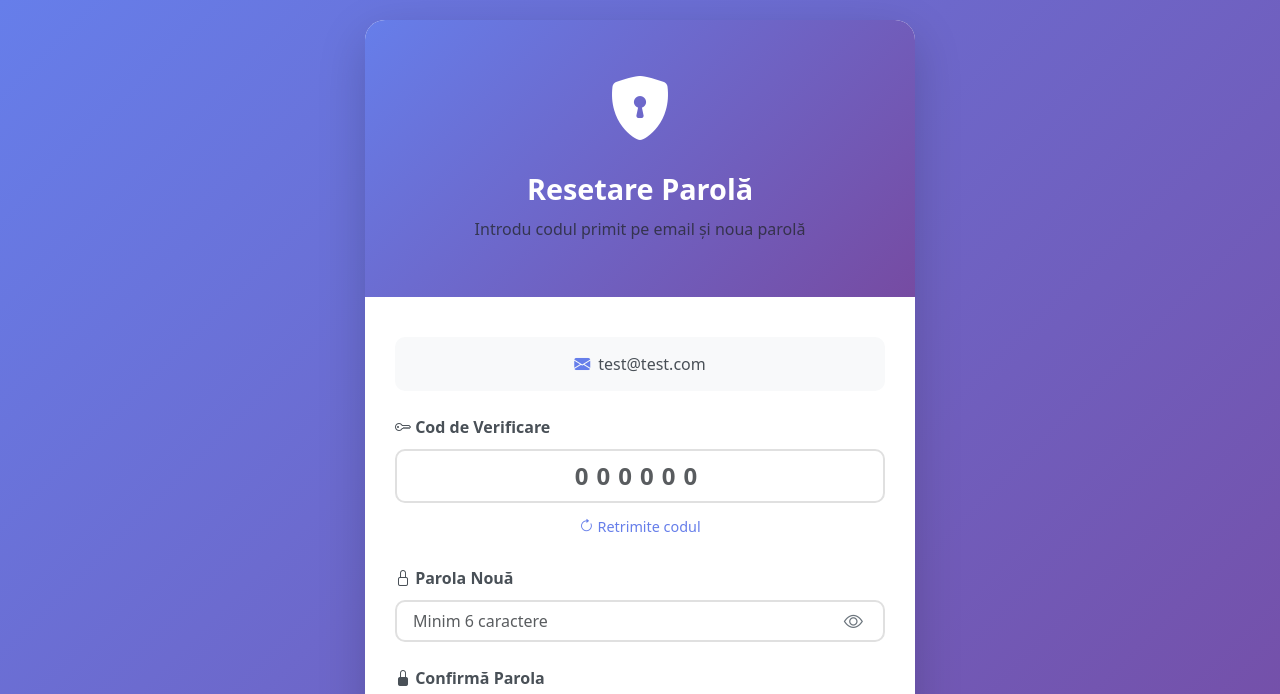
Test case: Password Reset Tests › 55. Should validate verification code format
Type "123" into the field named "code" at (640, 476), box [395,449,885,503]
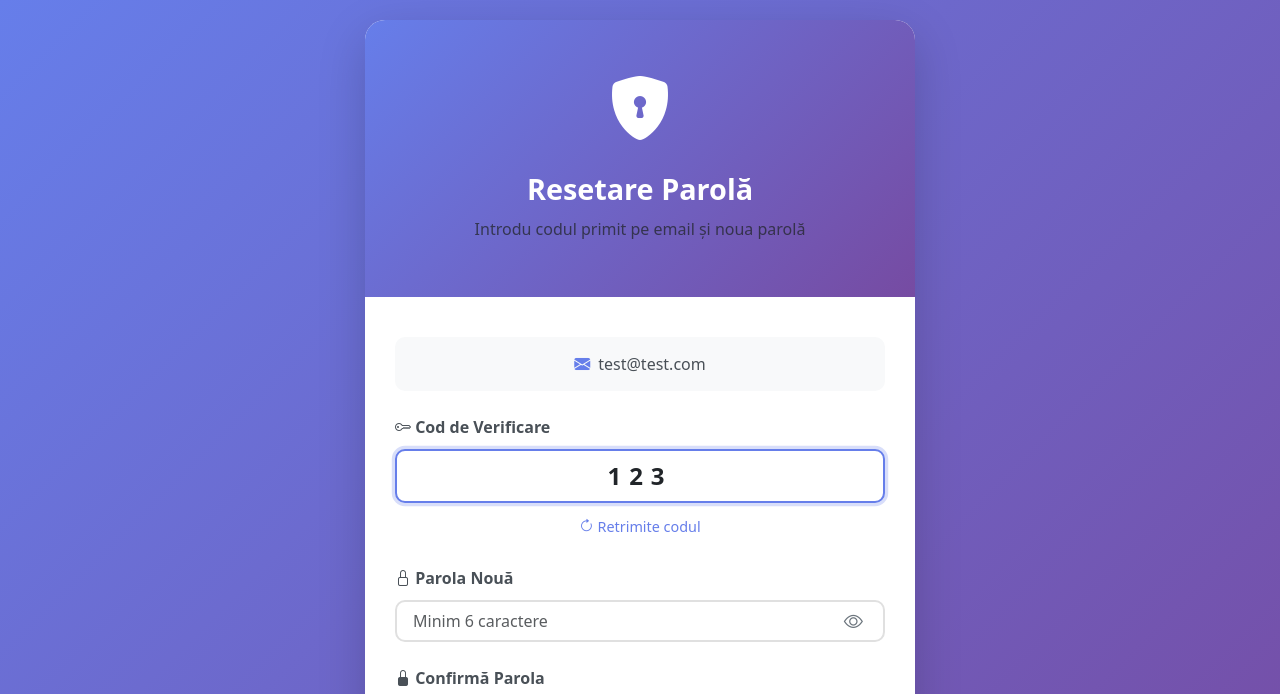
Leave the field named "code", box [395,449,885,503]
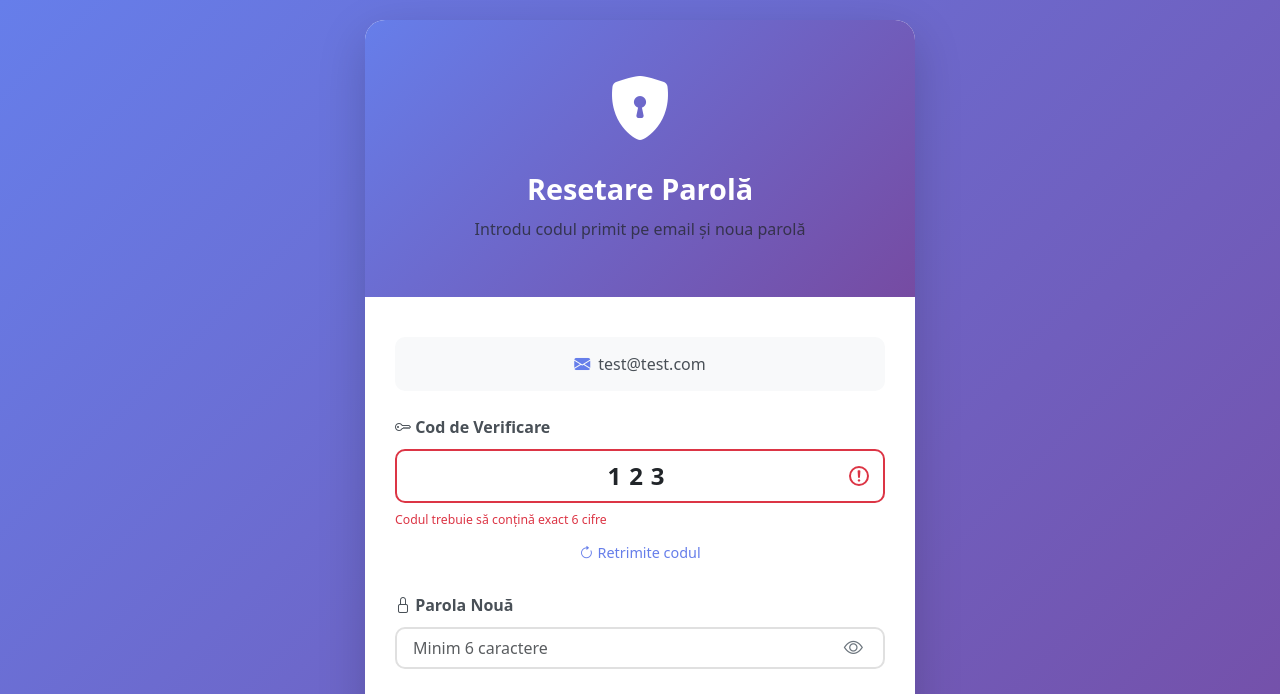
Result: the text with class "invalid-feedback" shows "6 cifre" at [395,511,607,528]
